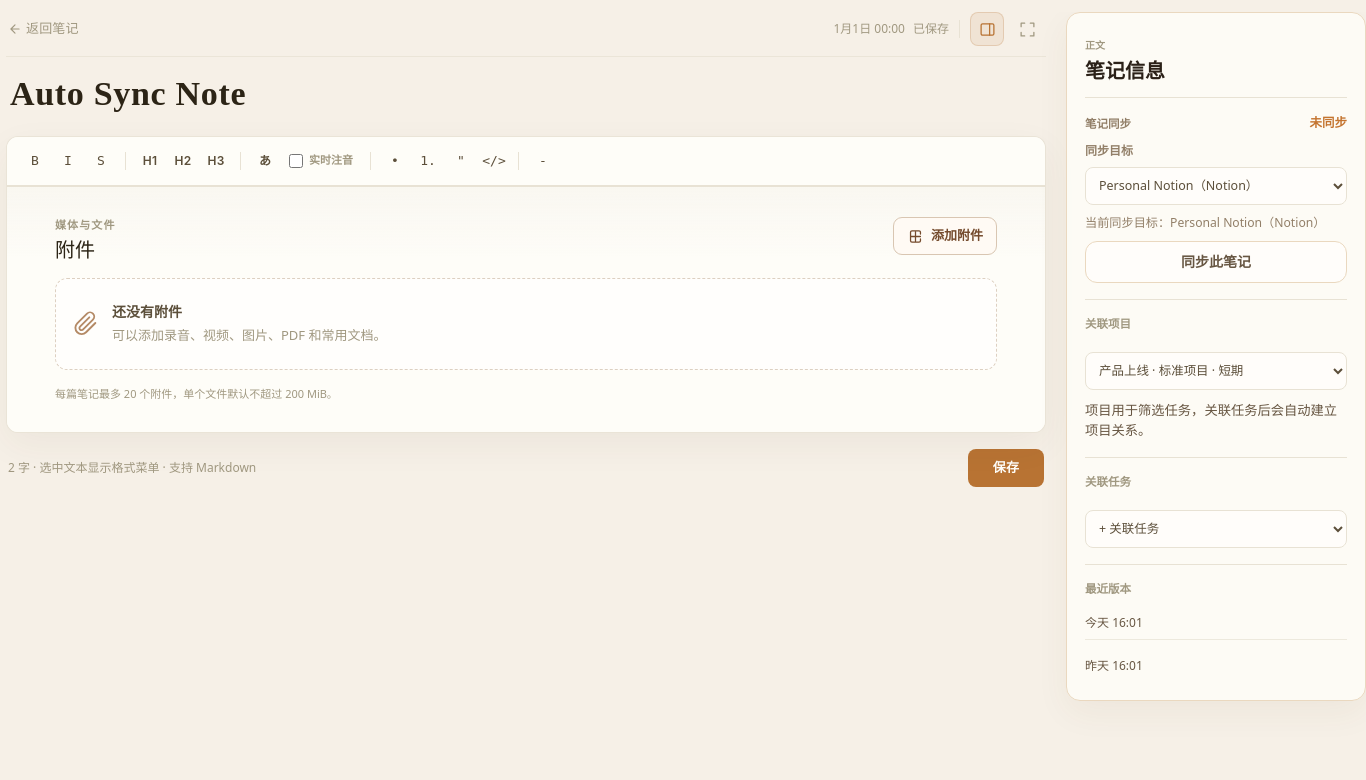
it: Editor auto sync › can collapse and restore the note information panel
Expected: the heading "笔记信息" is shown, [1085,58,1165,83]
Click the button named "隐藏笔记信息" at (987, 29), box [970,12,1004,46]
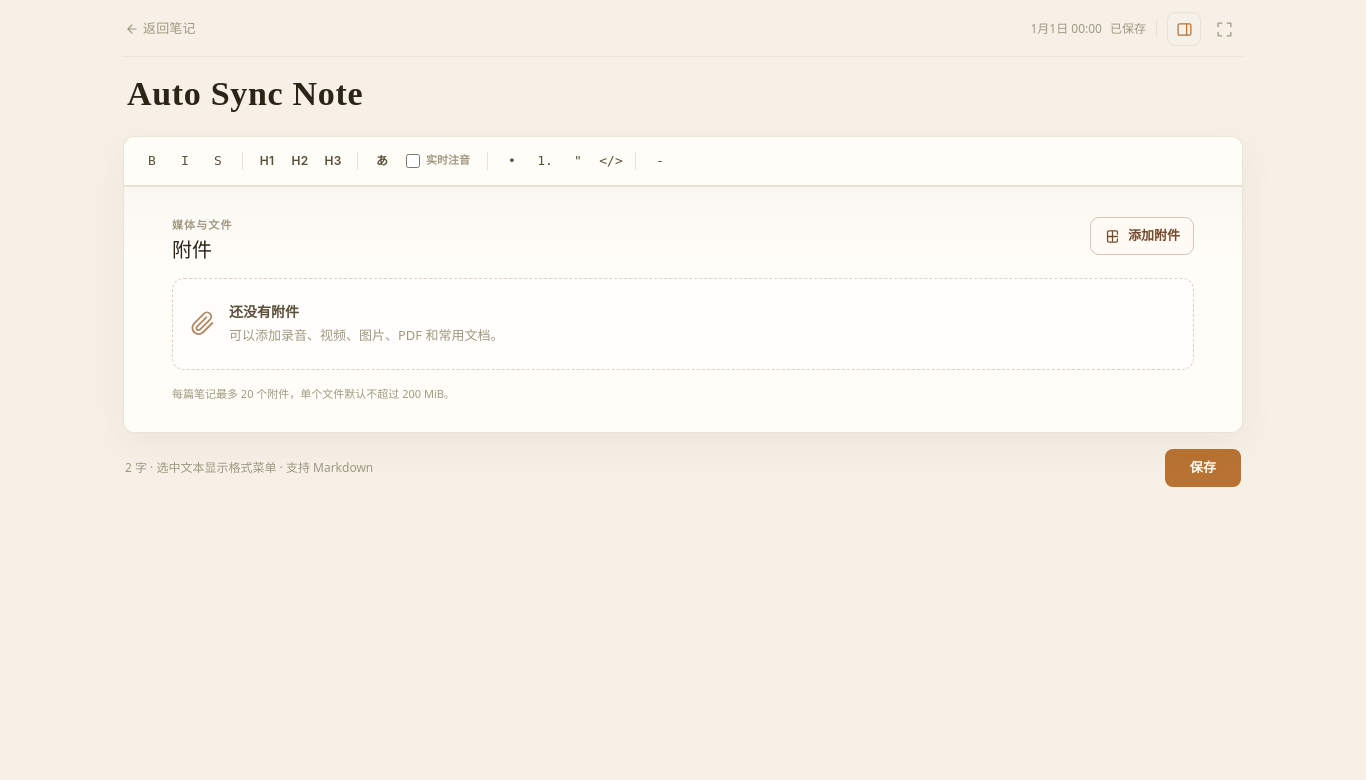
Expected: the heading "笔记信息" is gone
Click the button named "显示笔记信息" at (1184, 29), box [1167,12,1201,46]
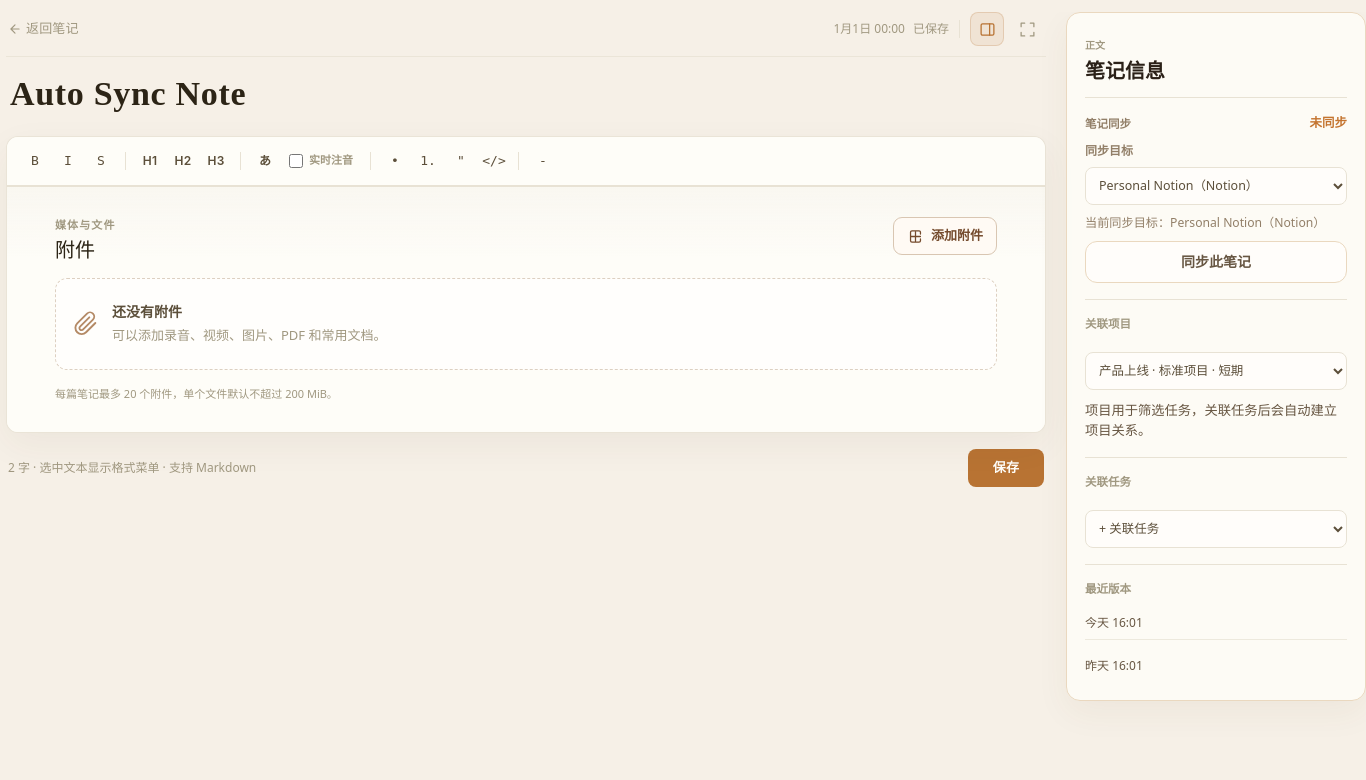
Expected: the heading "笔记信息" is shown, [1085,58,1165,83]
